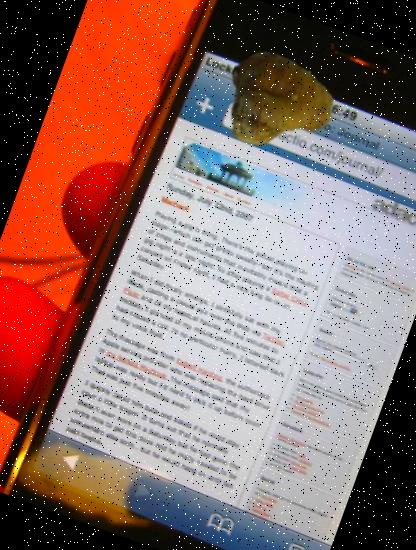Ginger: (206, 35, 348, 176)
